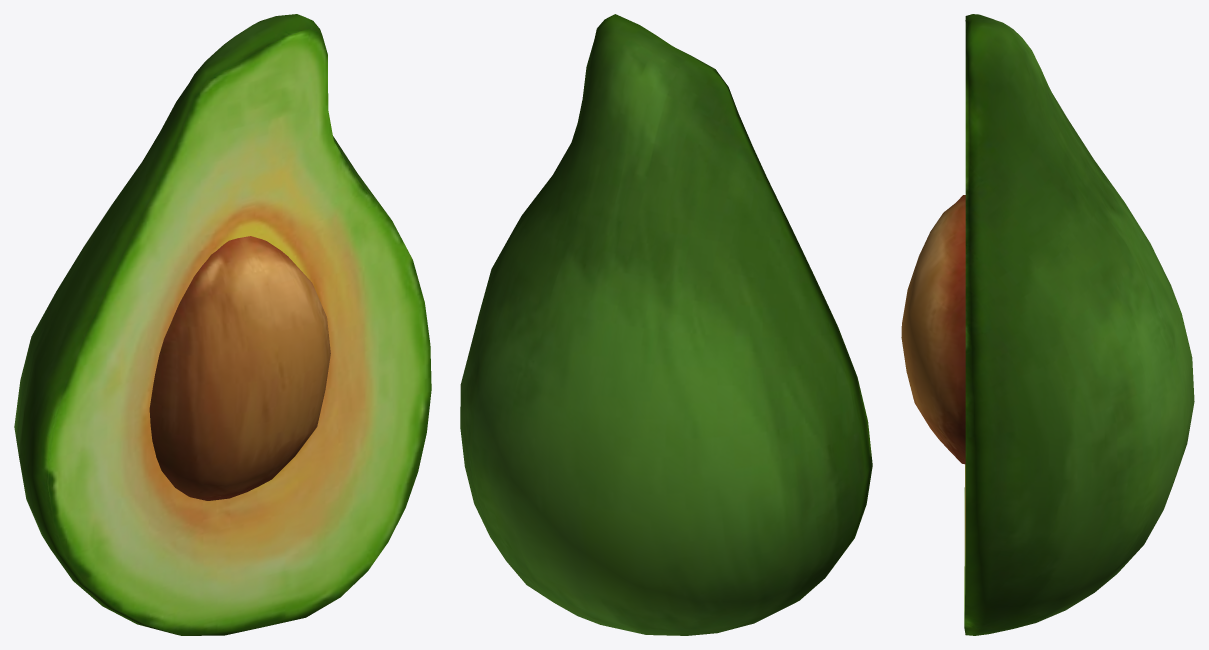
Rendered from MiniAvocado.glb.
3 views of the same model, side by side, from view 1: azimuth 30°, elevation 25°; view 2: azimuth 150°, elevation 25°; view 3: azimuth 270°, elevation 25° (orthographic). The views are drawn at different scales.
Parts seen in each view (by area): view 1: Avocado; view 2: Avocado; view 3: Avocado.
Boxes of the visible parts, x1,y1,x2,y2 form: Avocado: [14, 14, 431, 635]; Avocado: [460, 14, 872, 635]; Avocado: [901, 14, 1194, 635].
Size of the model in its own units: 0.0426 by 0.0629 by 0.0276.
Materials: 1 (1 with a texture image).
